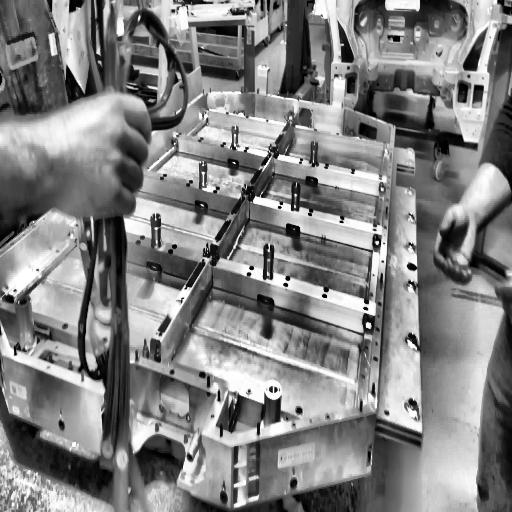b_casing: (0, 92, 423, 448)
